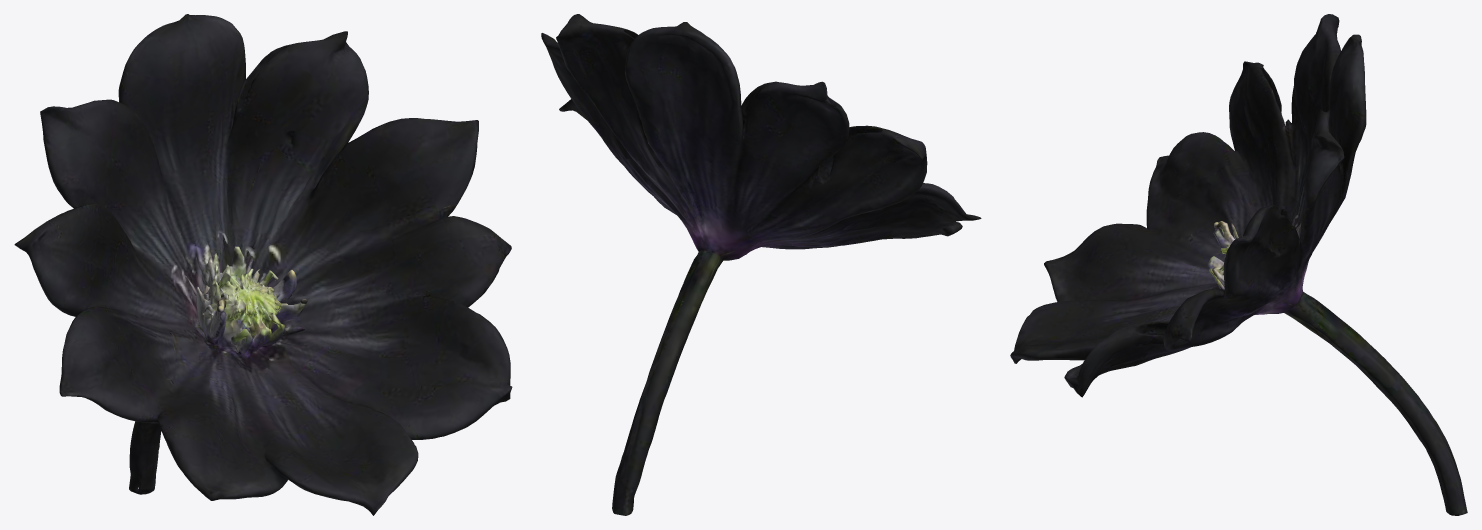
The picture shows the model from 3 angles, left to right: view 1: azimuth 30°, elevation 25°; view 2: azimuth 150°, elevation 25°; view 3: azimuth 270°, elevation 25°; orthographic projection. The views are drawn at different scales.
Bounding box in the file's own units: 1.87 × 1.99 × 1.76.
1 material, 1 textured.
